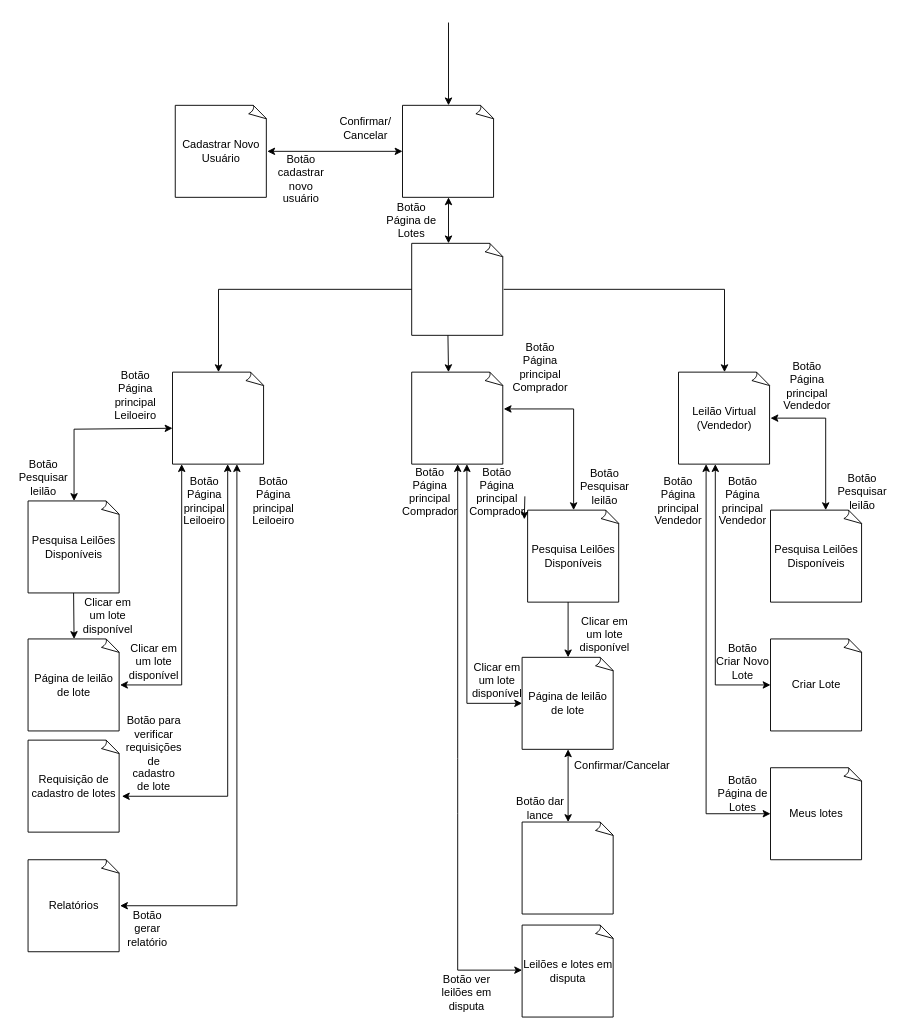
This 905x1033 diagram has some shape labels left out. The shapes that lost their labels are listed below. From the top down, each one's centre as x and y in pixels, then its label:
the point at 448,150: Homepage
the point at 457,288: Login
the point at 218,417: Leilão Virtual (Leiloeiro)
the point at 457,417: Leilão Virtual (Comprador)
the point at 567,867: Confirmar Lance
